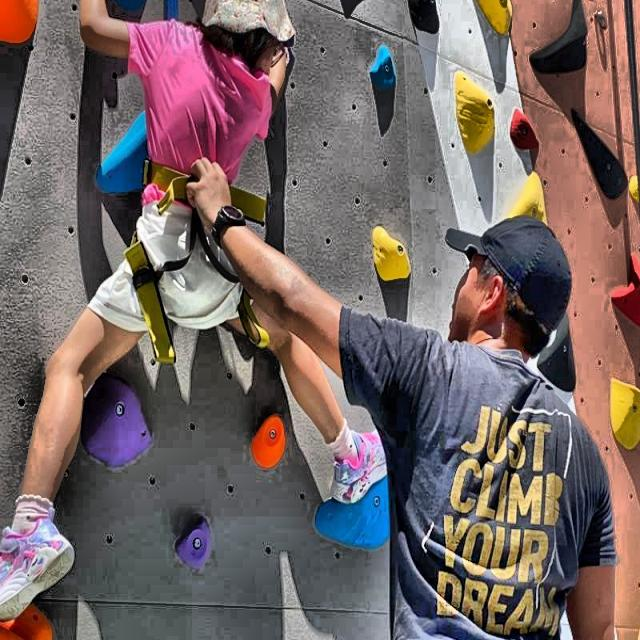Hold: (82, 373, 152, 467), (571, 109, 626, 199), (530, 0, 587, 75), (454, 71, 494, 154), (538, 318, 576, 394), (610, 254, 640, 327), (610, 379, 640, 450), (372, 227, 410, 282), (251, 415, 286, 468), (175, 517, 210, 569), (509, 108, 539, 154), (475, 0, 512, 34), (370, 45, 396, 91), (407, 0, 439, 34), (630, 176, 640, 203)
Unknown: (316, 470, 390, 548), (96, 113, 147, 194), (507, 172, 546, 222)
